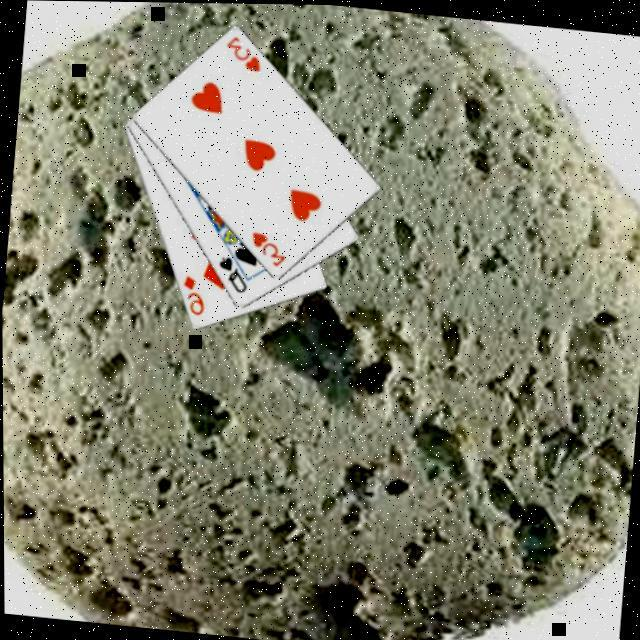3H: (247, 225, 292, 270), (223, 30, 268, 75)
9D: (178, 271, 211, 317)
QS: (213, 250, 253, 295)
